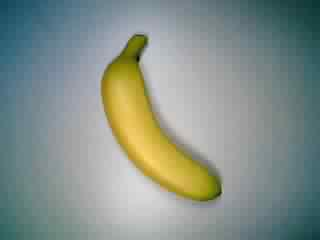banana: (97, 31, 229, 207)
